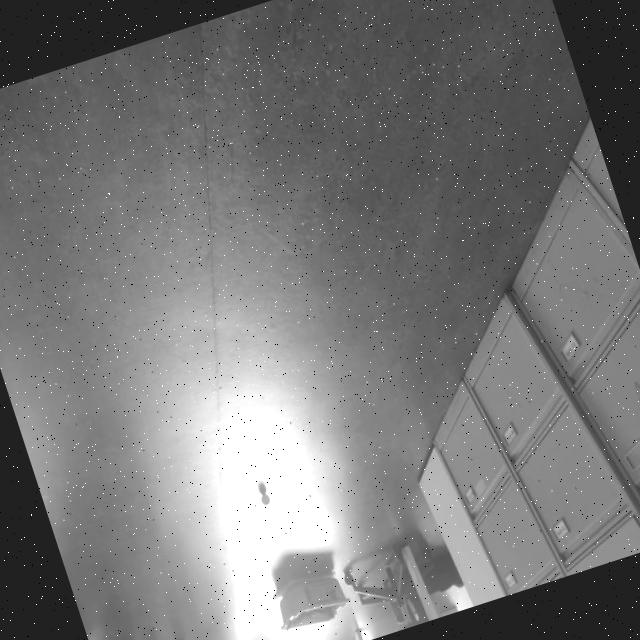ping-pong-ball: (258, 492, 272, 507)
